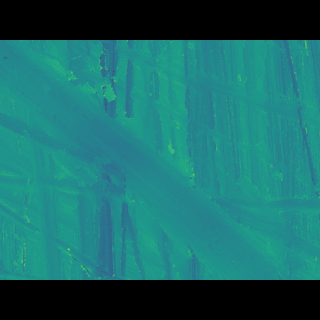Loch: (0, 69, 294, 250)
